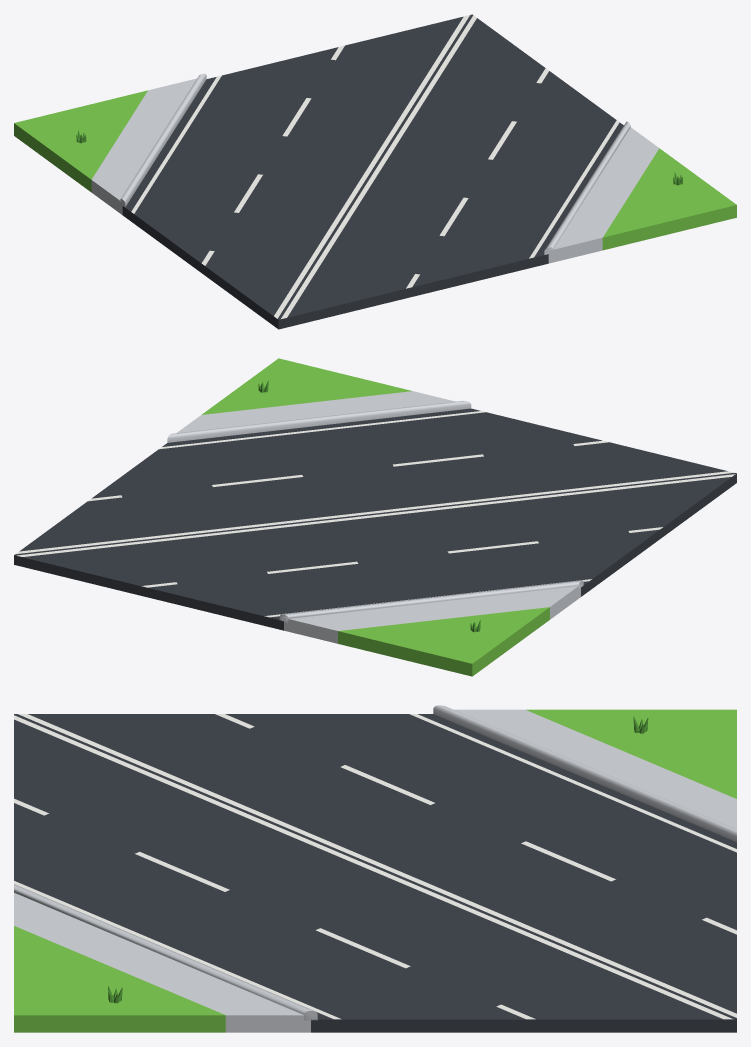
Rendered from avenida_diagonal_grama.glb.
3 views of the same model, one above another, from view 1: azimuth 30°, elevation 25°; view 2: azimuth 150°, elevation 25°; view 3: azimuth 270°, elevation 25° (orthographic). The views are drawn at different scales.
Visible parts, largest first — view 1: avenida_diagonal_grama; view 2: avenida_diagonal_grama; view 3: avenida_diagonal_grama.
Boxes of the visible parts, box(x1,y1,x2,y2) form: avenida_diagonal_grama: box(14, 14, 736, 329); avenida_diagonal_grama: box(14, 358, 736, 676); avenida_diagonal_grama: box(14, 705, 736, 1032).
Size of the model in its own units: 15 by 0.6919 by 15.
Materials: 1 (1 with a texture image).
